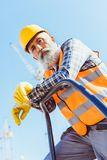helmet: (19, 22, 50, 53)
